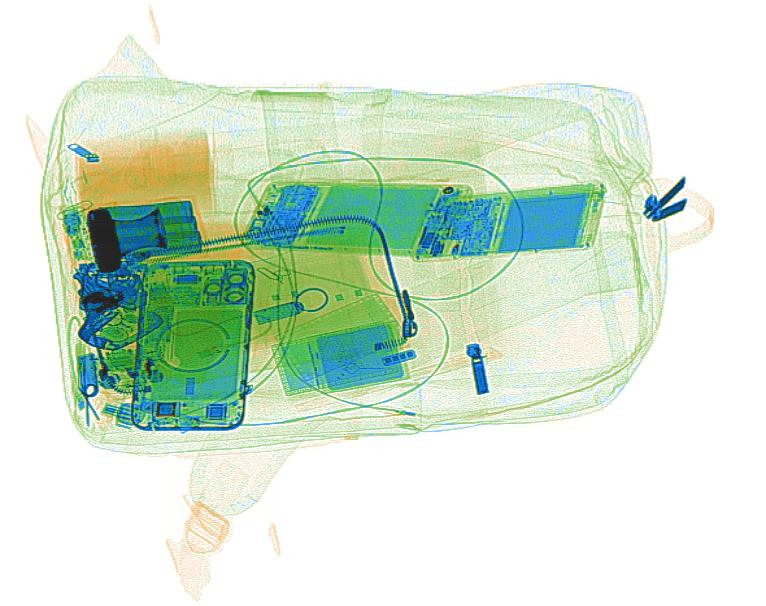battery: (59, 193, 208, 268)
seal: (83, 207, 170, 271)
